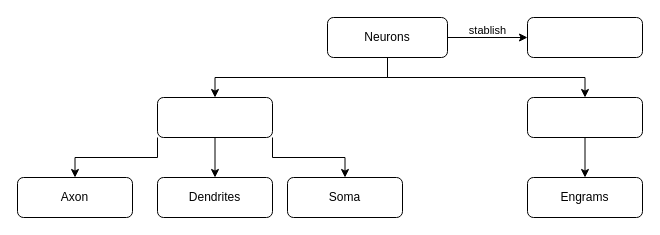
The diagram is 660 pixels wide and 235 high, and some of its shapes have lost their labels. Here are the shapes that lost their labels. From the top down, the centre of each, then its label:
At pixel 584 37: "Memory".
At pixel 214 117: "Parts".
At pixel 584 117: "Synapses".
